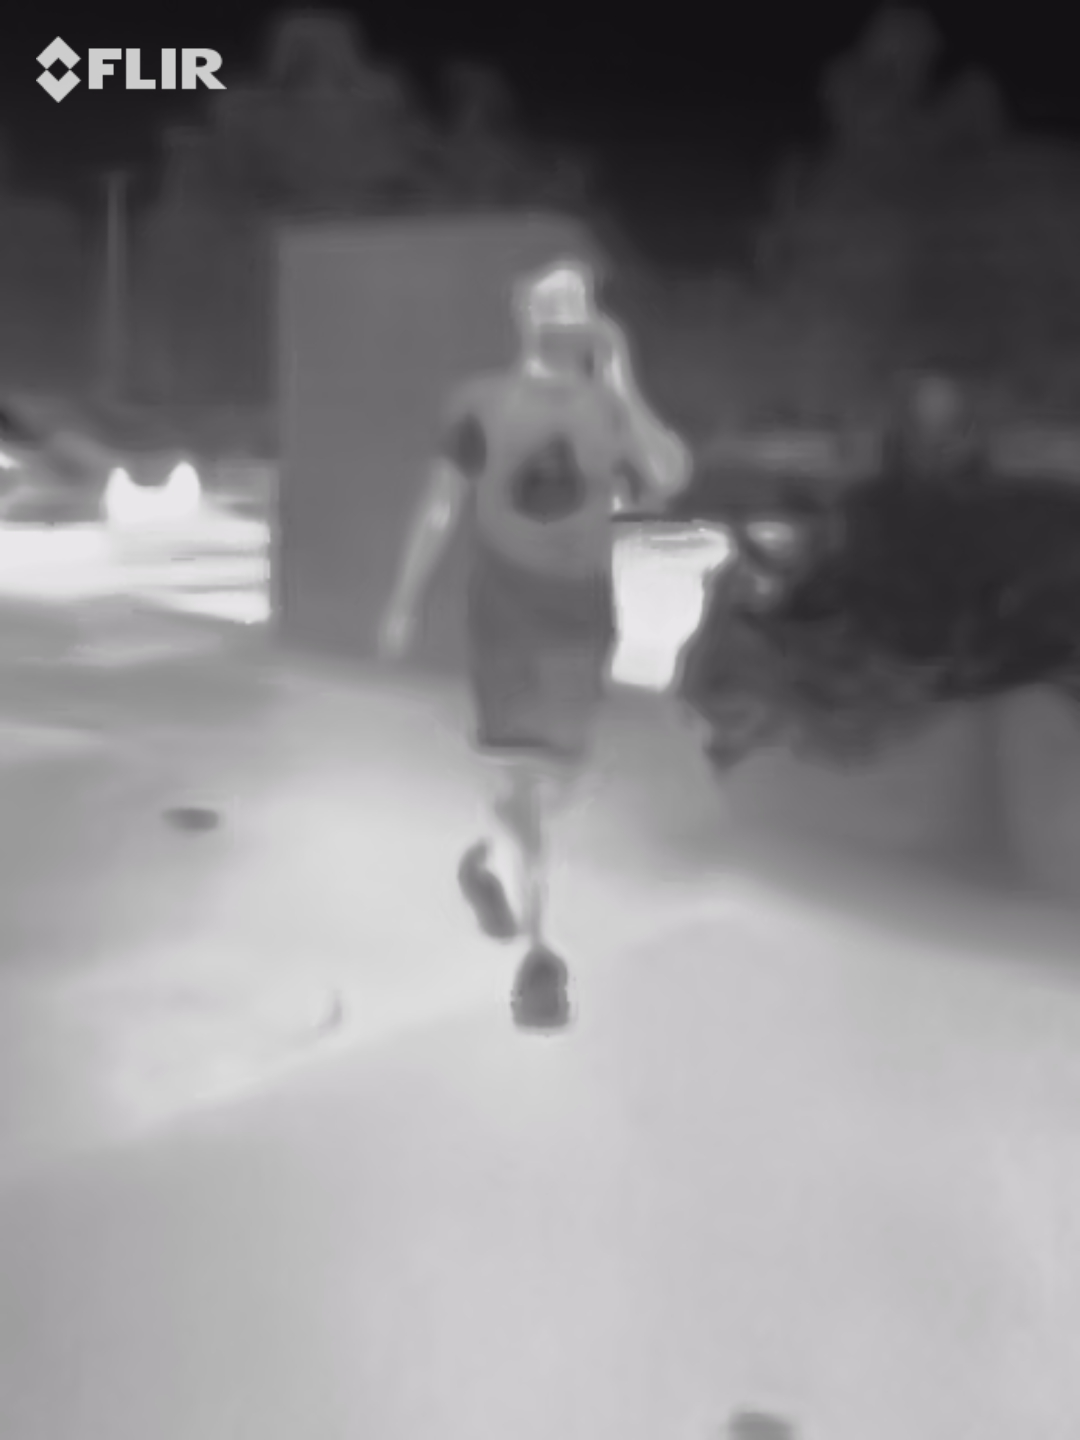head: (510, 253, 595, 377)
